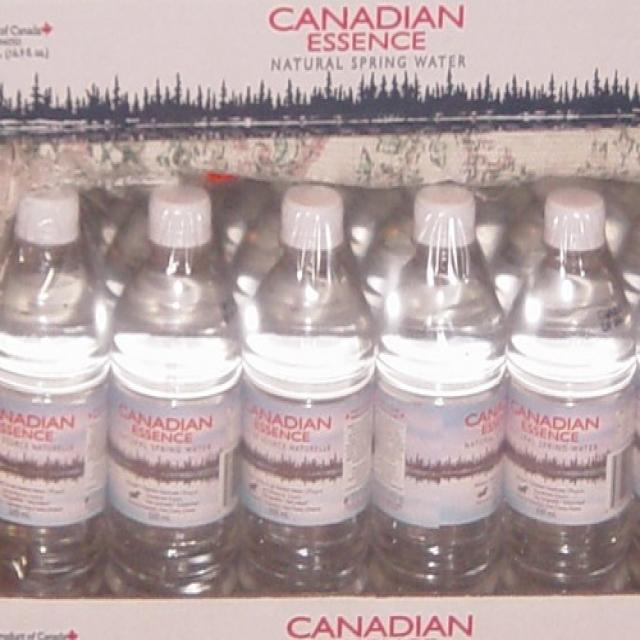plastic_bottle: (104, 184, 242, 600), (243, 185, 375, 600), (376, 185, 506, 598), (506, 188, 636, 596), (1, 190, 104, 598)
